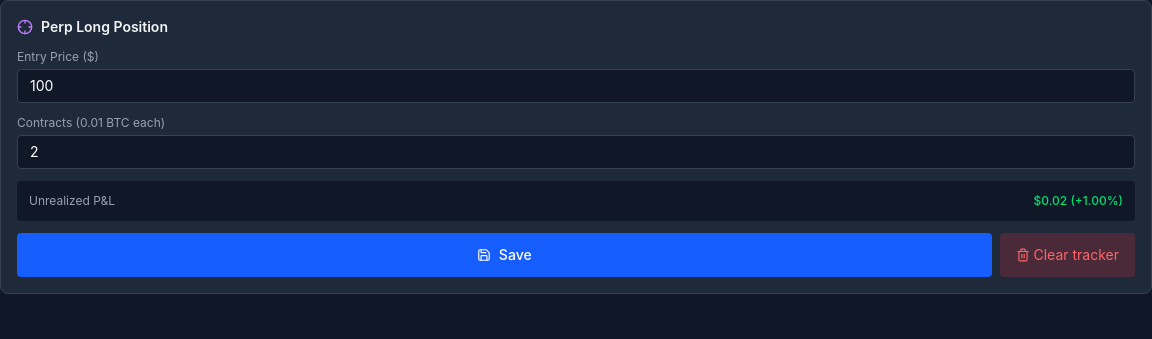
Test: shows the HTTP status when saving the tracker gets a proxy HTML page
Step 1. Click the button "Save" → x=504, y=255, box [17, 233, 992, 277]
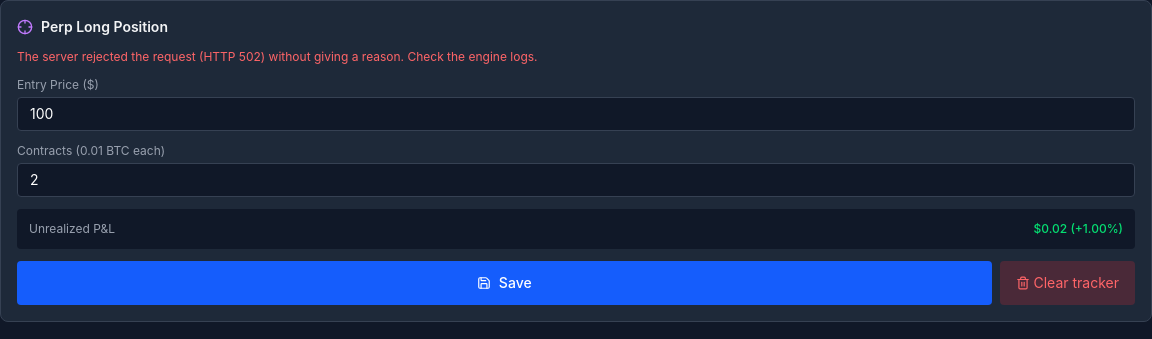
Expected: the message shows "HTTP 502", [17, 49, 538, 64]
